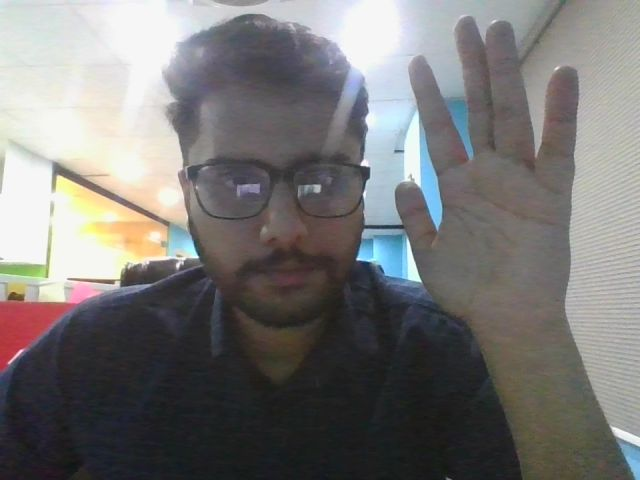hello: (380, 11, 594, 340)
